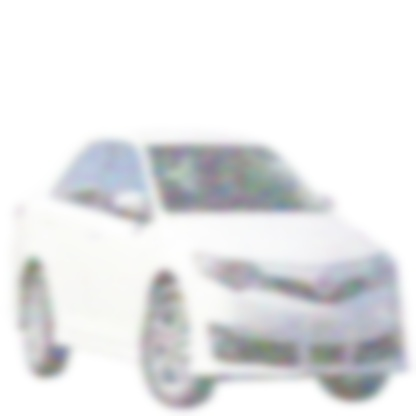Vehicle: (9, 129, 413, 409)
